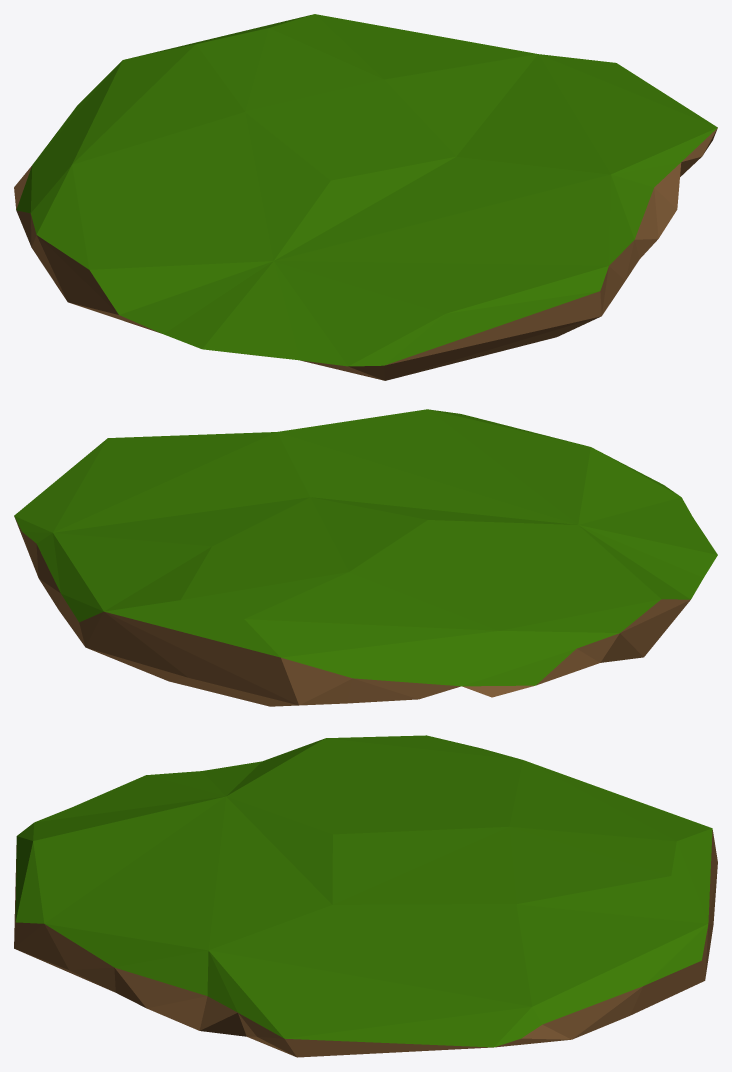
File: Ground_6.glb
The picture shows the model from 3 angles, top to bottom: view 1: azimuth 30°, elevation 25°; view 2: azimuth 150°, elevation 25°; view 3: azimuth 270°, elevation 25°; orthographic projection. The views are drawn at different scales.
Visible parts, largest first — view 1: Ground_06; view 2: Ground_06; view 3: Ground_06.
Part boxes in pixels (<box>): Ground_06: <box>14,14,717,380</box>; Ground_06: <box>14,409,717,706</box>; Ground_06: <box>14,735,717,1057</box>.
Bounding box in the file's own units: 17.91 × 2.41 × 17.09.
